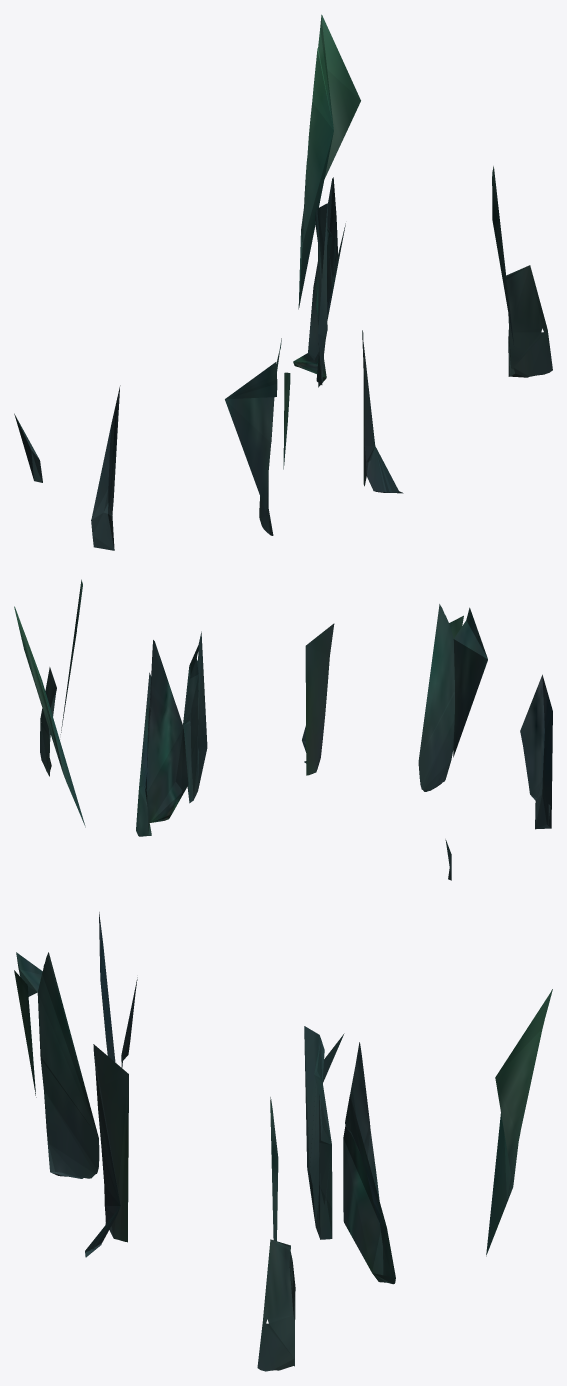
File: grass-patch.glb
The picture shows the model from 3 angles, top to bottom: view 1: azimuth 30°, elevation 25°; view 2: azimuth 150°, elevation 25°; view 3: azimuth 270°, elevation 25°; orthographic projection. The views are drawn at different scales.
Visible parts, largest first — view 1: GrassPatch; view 2: GrassPatch; view 3: GrassPatch.
Part boxes in pixels (<box>): GrassPatch: <box>14,14,552,550</box>; GrassPatch: <box>14,579,552,880</box>; GrassPatch: <box>14,912,552,1371</box>.
Size of the model in its own units: 0.7101 by 0.3875 by 0.5604.
1 material, 1 textured.
